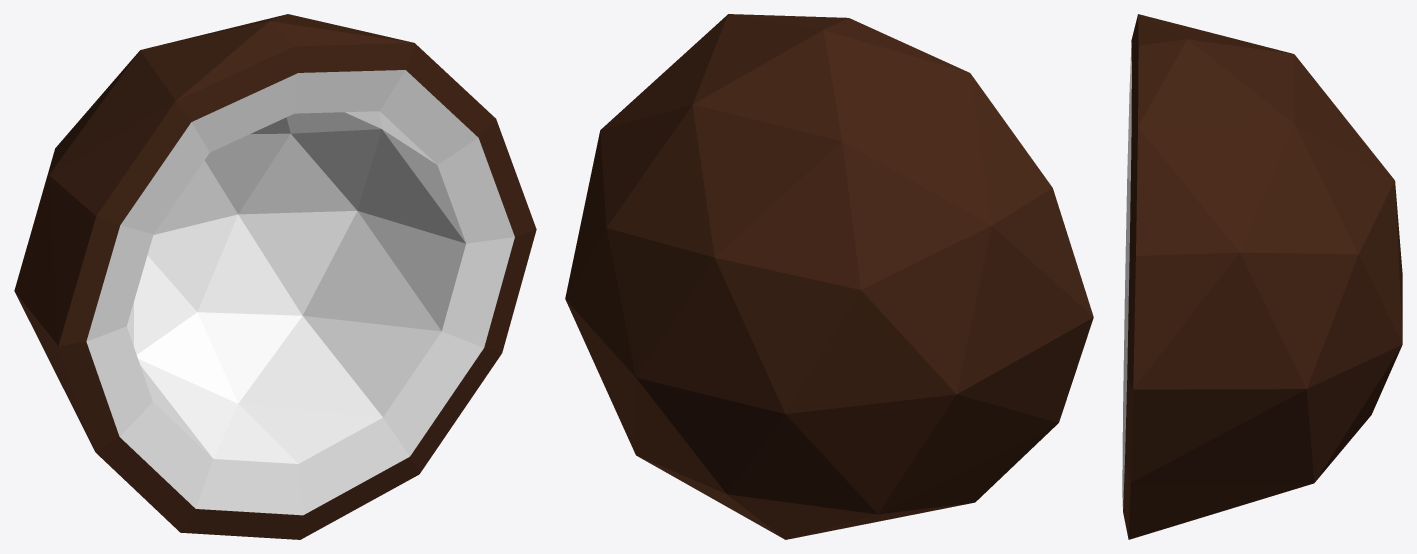
The model's file is Coconut_Half.obj.
3 views of the same model, side by side, from view 1: azimuth 30°, elevation 25°; view 2: azimuth 150°, elevation 25°; view 3: azimuth 270°, elevation 25° (orthographic). The views are drawn at different scales.
Visible parts, largest first — view 1: Coconut_Half_White, Coconut_Half_DarkBrown; view 2: Coconut_Half_DarkBrown; view 3: Coconut_Half_DarkBrown, Coconut_Half_White.
Boxes of the visible parts, <box> form: Coconut_Half_White: <box>86,70,514,515</box>; Coconut_Half_DarkBrown: <box>14,14,536,539</box>; Coconut_Half_DarkBrown: <box>565,14,1093,539</box>; Coconut_Half_DarkBrown: <box>1123,14,1402,539</box>; Coconut_Half_White: <box>1122,42,1131,507</box>.
Size of the model in its own units: 0.7836 by 0.7769 by 0.412.
